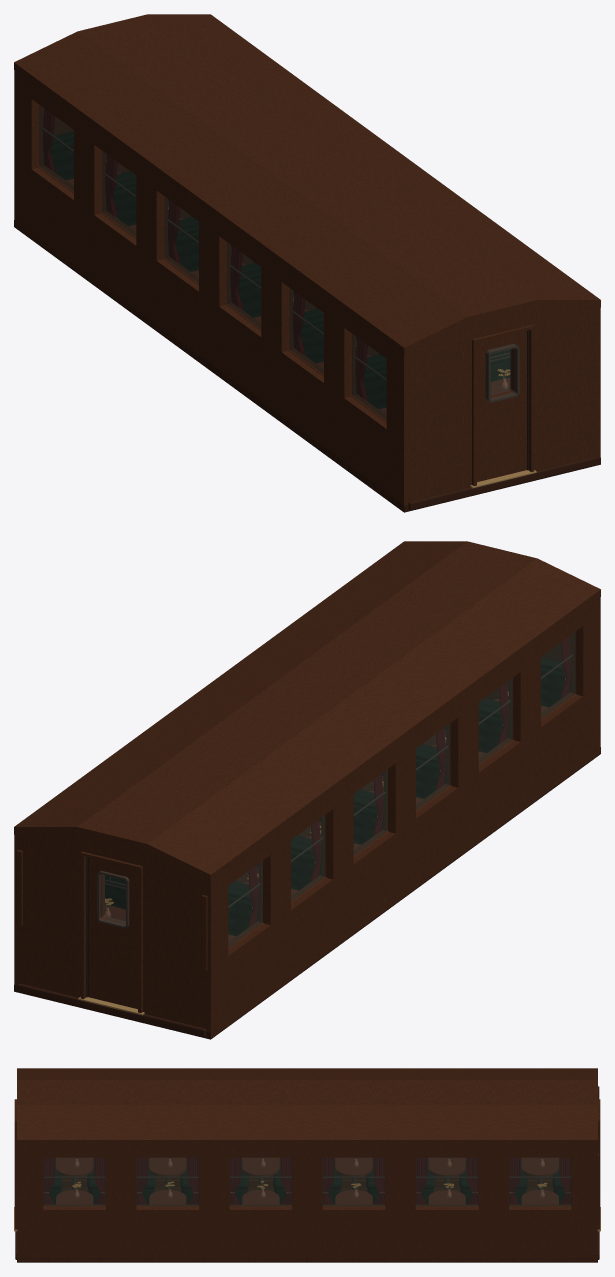
The model's file is 03_train_material.glb.
3 renders of one model, top to bottom at view 1: azimuth 30°, elevation 25°; view 2: azimuth 150°, elevation 25°; view 3: azimuth 270°, elevation 25°, orthographic. The views are drawn at different scales.
Visible parts, largest first — view 1: Complete profiled roof solid, Left full sidewall with six true apertures, Inferred reverse profiled end wall, End door leaf, Continuous underfloor structural solid, Window -1 4 real dark glazing, Window -1 1 real dark glazing, Window -1 2 real dark glazing, Window -1 6 real dark glazing, Window -1 3 real dark glazing, Window -1 5 real dark glazing, Continuous floor shell (+12 smaller); view 2: Complete profiled roof solid, Left full sidewall with six true apertures, Observed forward profiled end wall, End door leaf.001, Continuous floor shell, Window -1 3 real dark glazing, Window -1 1 real dark glazing, Window -1 5 real dark glazing, Window -1 6 real dark glazing, Window -1 2 real dark glazing, Window -1 4 real dark glazing, Window sill wooden rail (+12 smaller); view 3: Right full sidewall with six true apertures, Complete profiled roof solid, Window 1 1 real dark glazing, Window 1 2 real dark glazing, Window 1 5 real dark glazing, Window 1 6 real dark glazing, Window 1 3 real dark glazing, Window 1 4 real dark glazing, Continuous underfloor structural solid, Window sill wooden rail.001, Continuous side floor skirting -1, Continuous floor shell (+28 smaller).
Boxes of the visible parts, x1,y1,x2,y2 form: Complete profiled roof solid: (14,14,600,355); Left full sidewall with six true apertures: (14,65,412,510); Inferred reverse profiled end wall: (400,307,600,505); End door leaf: (477,330,526,481); Continuous underfloor structural solid: (14,220,600,512); Window -1 4 real dark glazing: (164,197,198,282); Window -1 1 real dark glazing: (352,334,386,420); Window -1 2 real dark glazing: (289,288,323,374); Window -1 6 real dark glazing: (39,105,73,191); Window -1 3 real dark glazing: (227,242,261,328); Window -1 5 real dark glazing: (102,151,136,236); Continuous floor shell: (168,204,596,510); Complete profiled roof solid: (14,541,600,882); Left full sidewall with six true apertures: (202,592,600,1037); Observed forward profiled end wall: (14,834,210,1031); End door leaf.001: (88,857,137,1008); Continuous floor shell: (18,730,446,1037); Window -1 3 real dark glazing: (416,724,450,809); Window -1 1 real dark glazing: (541,632,575,718); Window -1 5 real dark glazing: (291,815,325,901); Window -1 6 real dark glazing: (228,861,262,947); Window -1 2 real dark glazing: (478,678,512,763); Window -1 4 real dark glazing: (353,769,387,855); Window sill wooden rail: (228,692,576,949); Right full sidewall with six true apertures: (17,1142,597,1261); Complete profiled roof solid: (17,1068,597,1145); Window 1 1 real dark glazing: (43,1157,105,1206); Window 1 2 real dark glazing: (136,1157,198,1206); Window 1 5 real dark glazing: (416,1157,478,1206); Window 1 6 real dark glazing: (509,1157,571,1206); Window 1 3 real dark glazing: (230,1157,291,1206); Window 1 4 real dark glazing: (323,1157,384,1206); Continuous underfloor structural solid: (17,1256,597,1262); Window sill wooden rail.001: (43,1204,571,1207); Continuous side floor skirting -1: (62,1180,552,1187); Continuous floor shell: (15,1187,599,1259).
Size of the model in its own units: 3.27 by 2.86 by 11.35.
19 materials, 7 textured.
